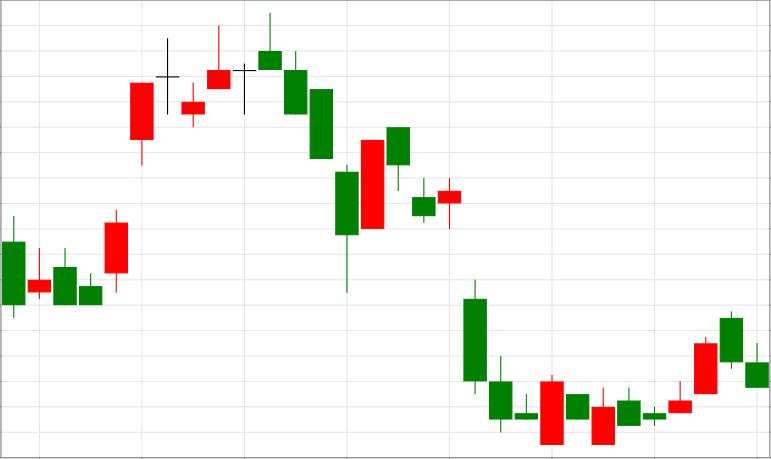bullish_engulfing_rise: (387, 127, 564, 445)
